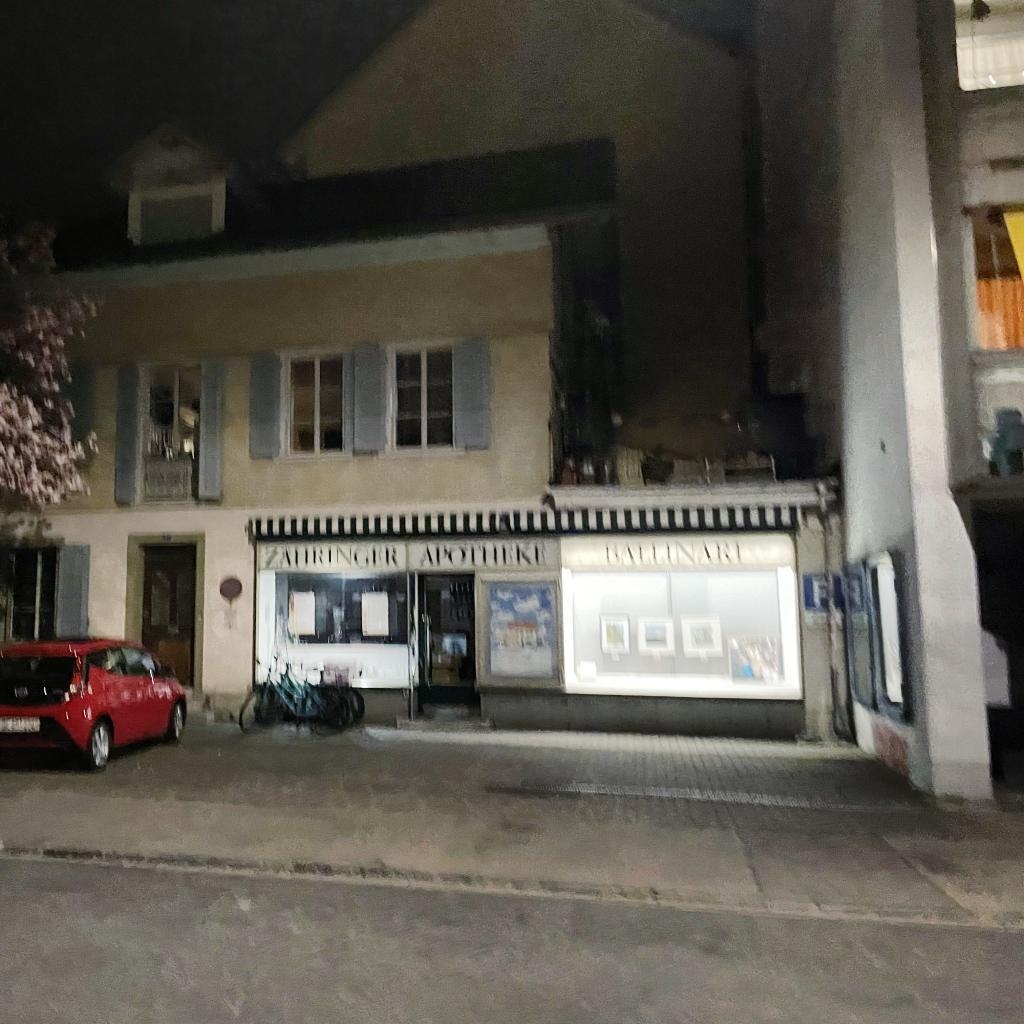car: (0, 635, 188, 773)
facade: (0, 0, 1024, 803)
non-building-infrastructure: (839, 550, 914, 727)
shop: (242, 501, 802, 703)
street: (0, 725, 1024, 1024)
vegetation: (0, 212, 106, 519)
window: (138, 359, 202, 502), (964, 203, 1024, 355), (392, 344, 456, 450), (954, 0, 1024, 91), (283, 355, 343, 456)
